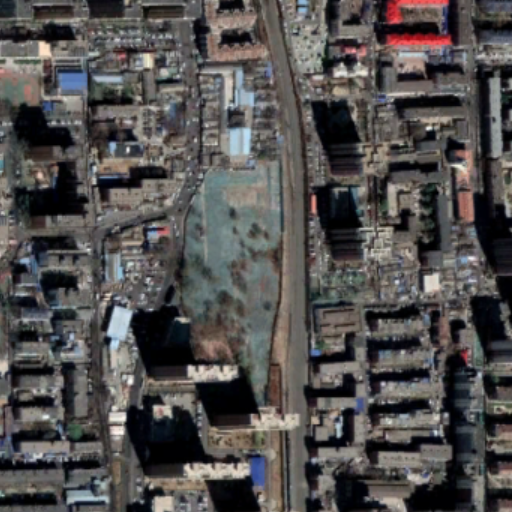cw: (203, 125, 352, 306), (274, 307, 344, 413)
